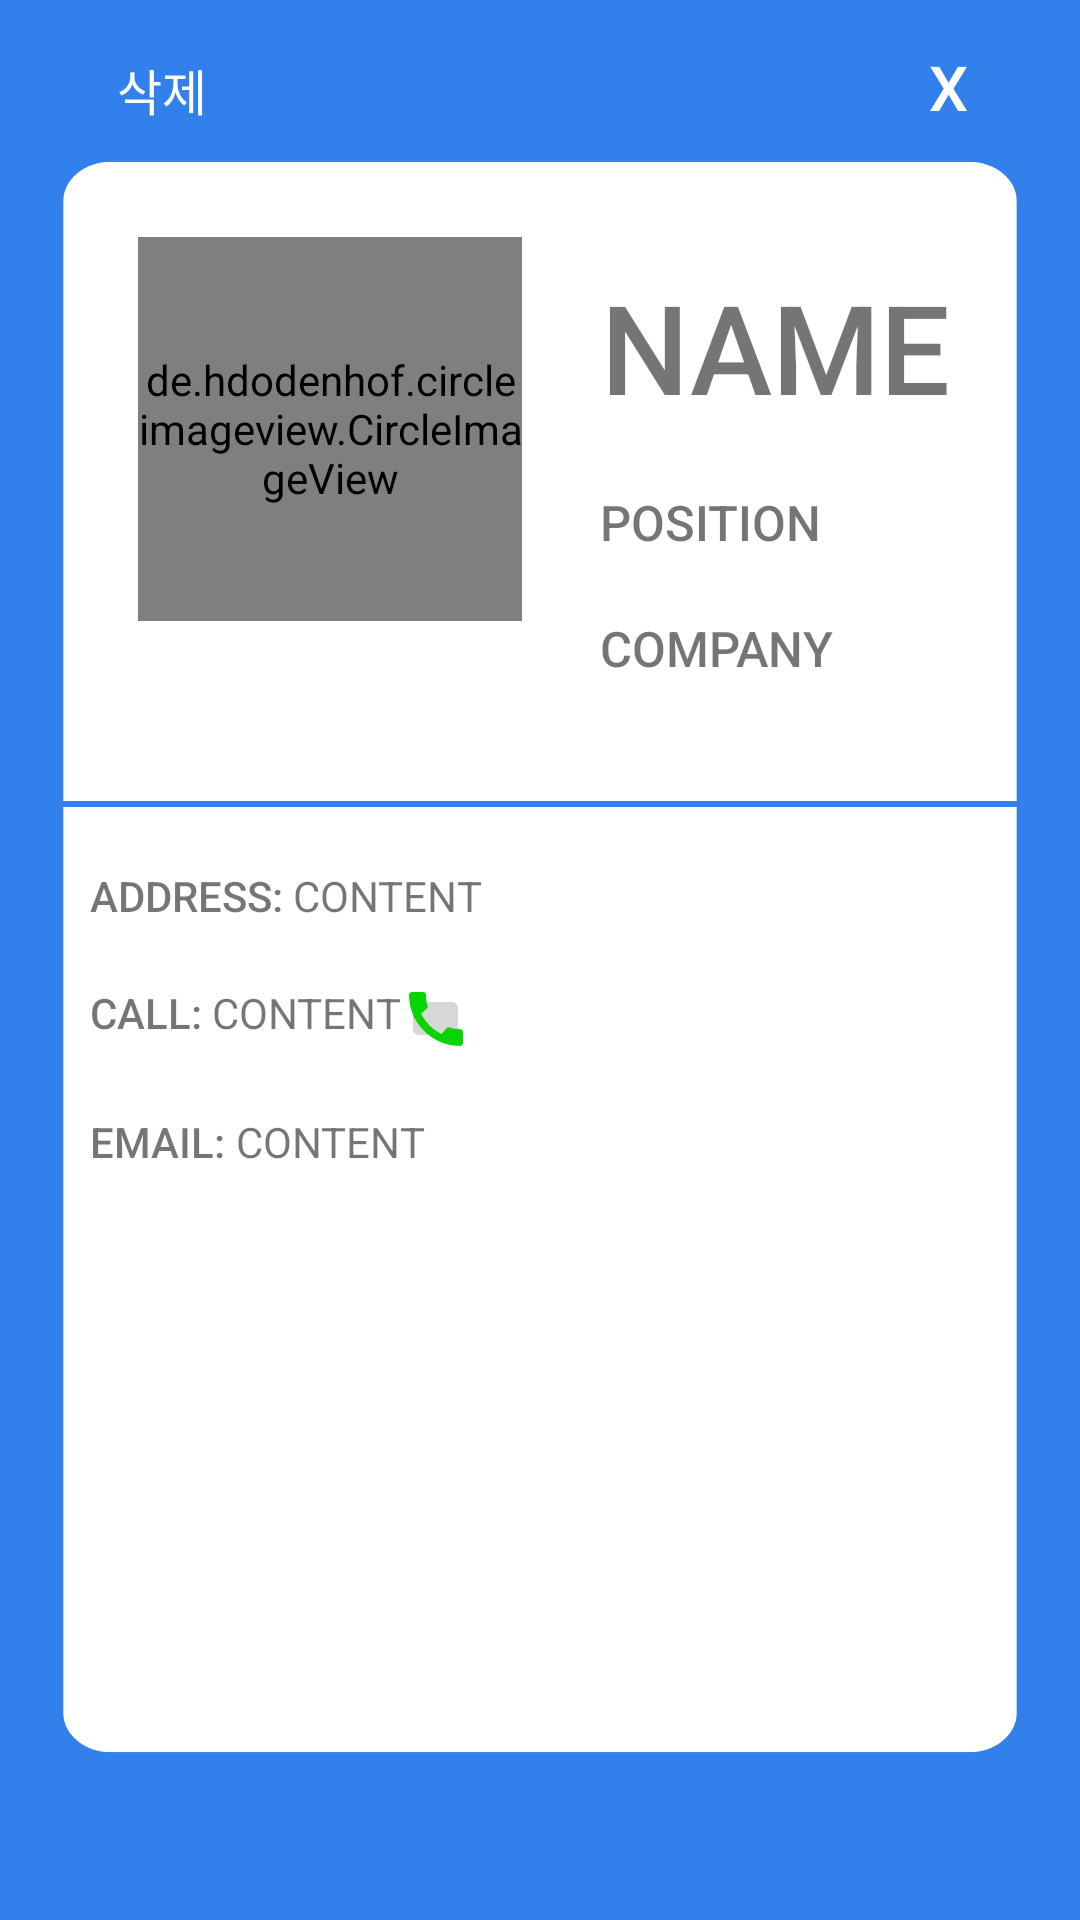

Where icons sit on this 1080×1920 app screen, as {"x1": x1, "y1": y1, "x2": x2, "y2": y2}:
call: {"x1": 409, "y1": 992, "x2": 463, "y2": 1046}
